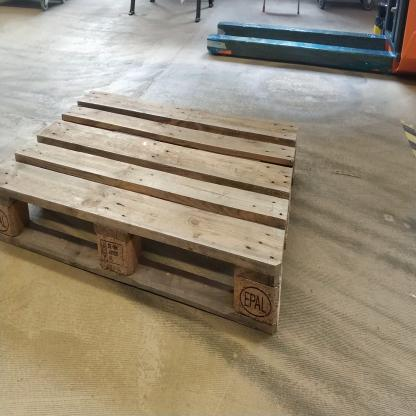BoxFace: (0, 83, 303, 346)
